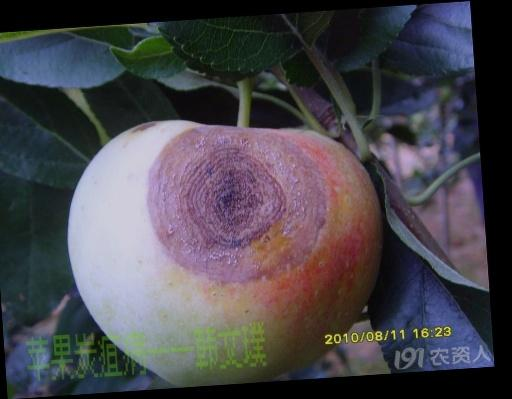rotten apple: (64, 98, 389, 383)
